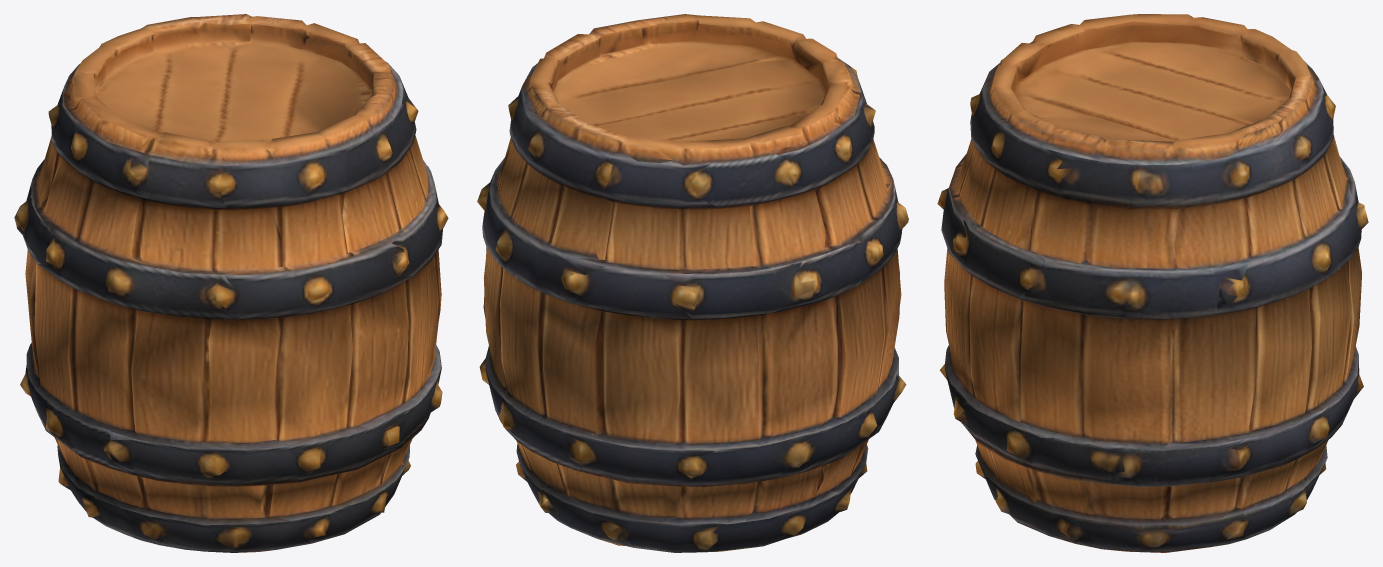
The model's file is barrel.glb.
3 renders of one model, left to right at view 1: azimuth 30°, elevation 25°; view 2: azimuth 150°, elevation 25°; view 3: azimuth 270°, elevation 25°, orthographic.
Parts seen in each view (by area): view 1: barrel; view 2: barrel; view 3: barrel.
Boxes of the visible parts, x1,y1,x2,y2 form: barrel: (14,14,448,552); barrel: (477,14,908,552); barrel: (937,14,1368,552).
Bounding box in the file's own units: 1.2 × 1.26 × 1.2.
1 material, 1 textured.
